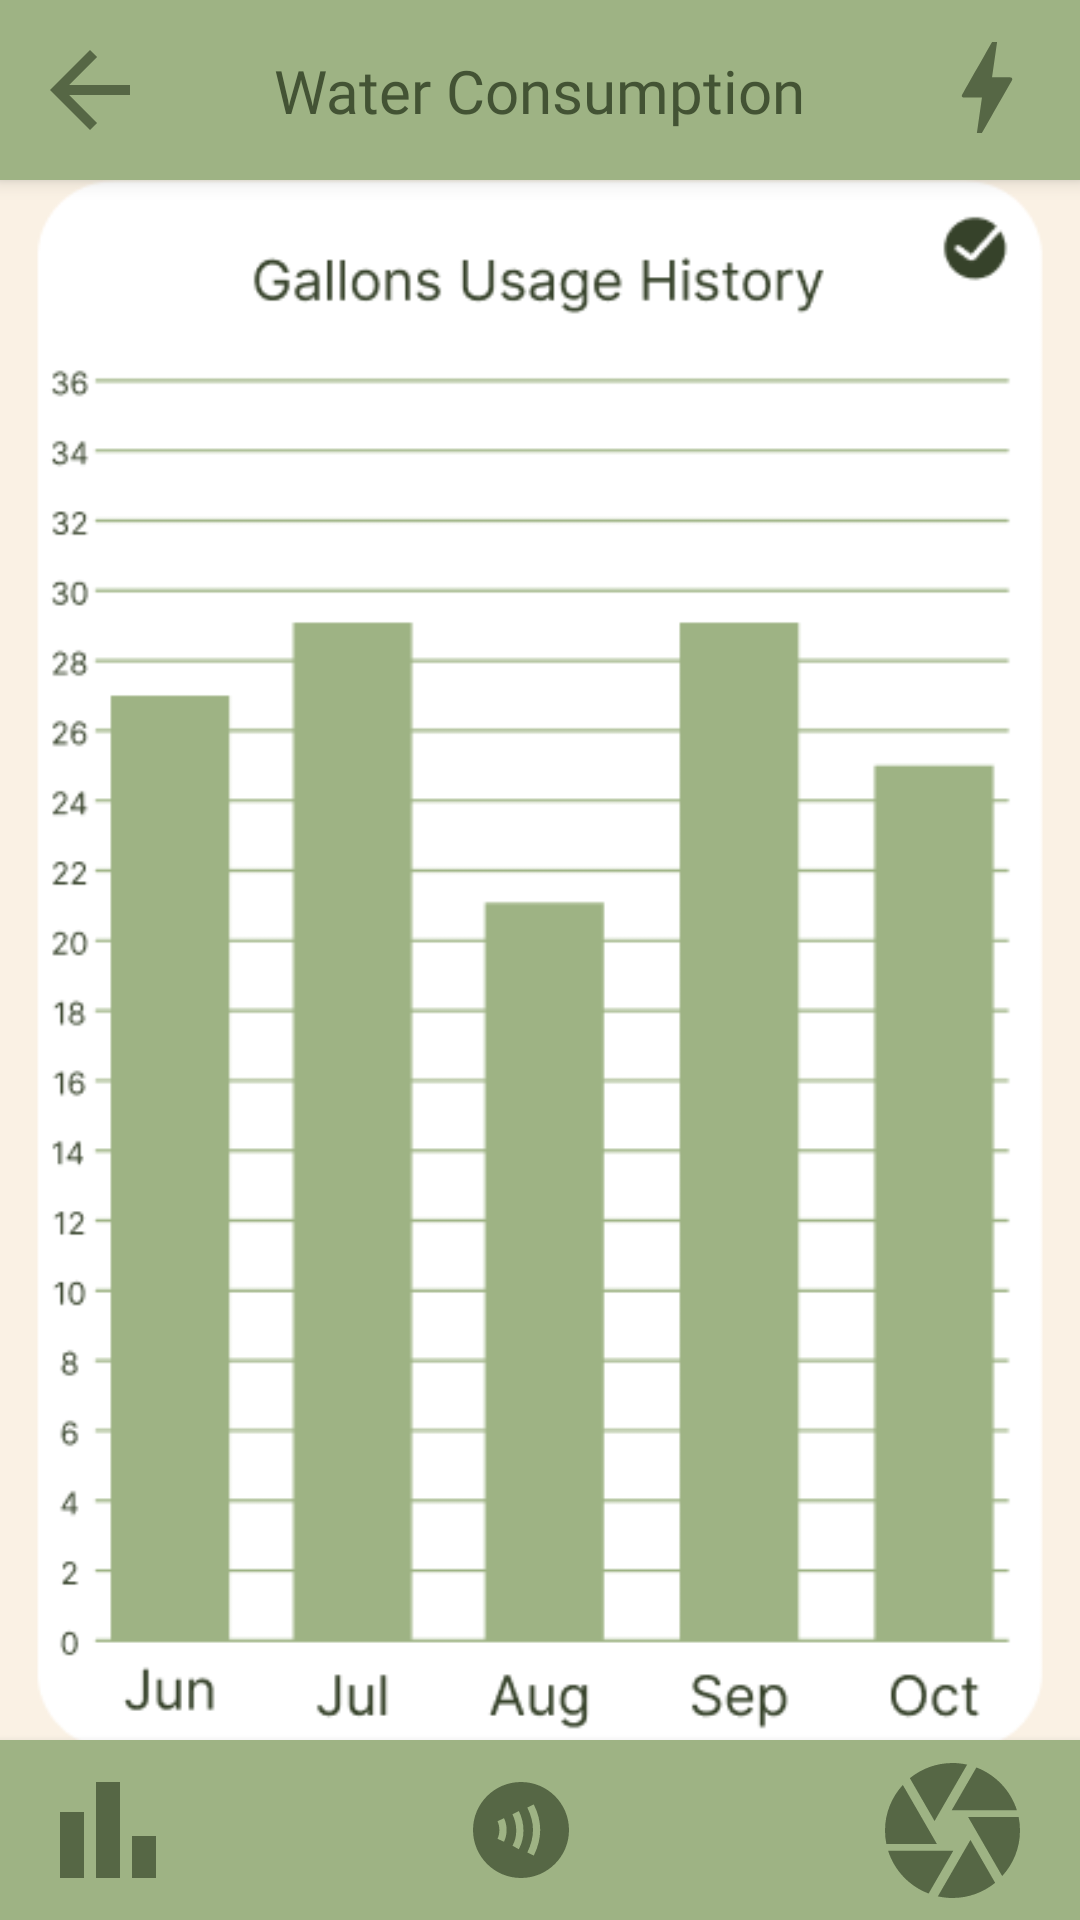

Screen size 1080*1920. Icon name, then its box in pixels as Rect(x1, y1, x2, y2):
Back Button: Rect(50, 50, 130, 130)
Scan tab button: Rect(885, 1763, 1020, 1898)
Sensors tab button: Rect(473, 1782, 569, 1878)
Water and energy consumption tab button: Rect(60, 1782, 156, 1878)
